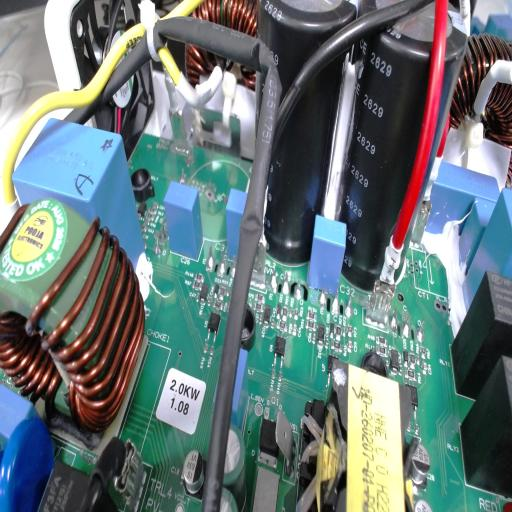pin_group: (387, 302, 429, 348), (202, 233, 239, 283), (315, 281, 356, 322), (267, 263, 305, 304)
solder_ball: (206, 242, 216, 274), (218, 247, 228, 277), (416, 318, 426, 345), (344, 294, 354, 320), (270, 267, 279, 295), (390, 307, 399, 335), (332, 286, 340, 317), (403, 314, 412, 340), (230, 253, 238, 280), (282, 271, 290, 298), (294, 275, 302, 300), (319, 286, 326, 309)
